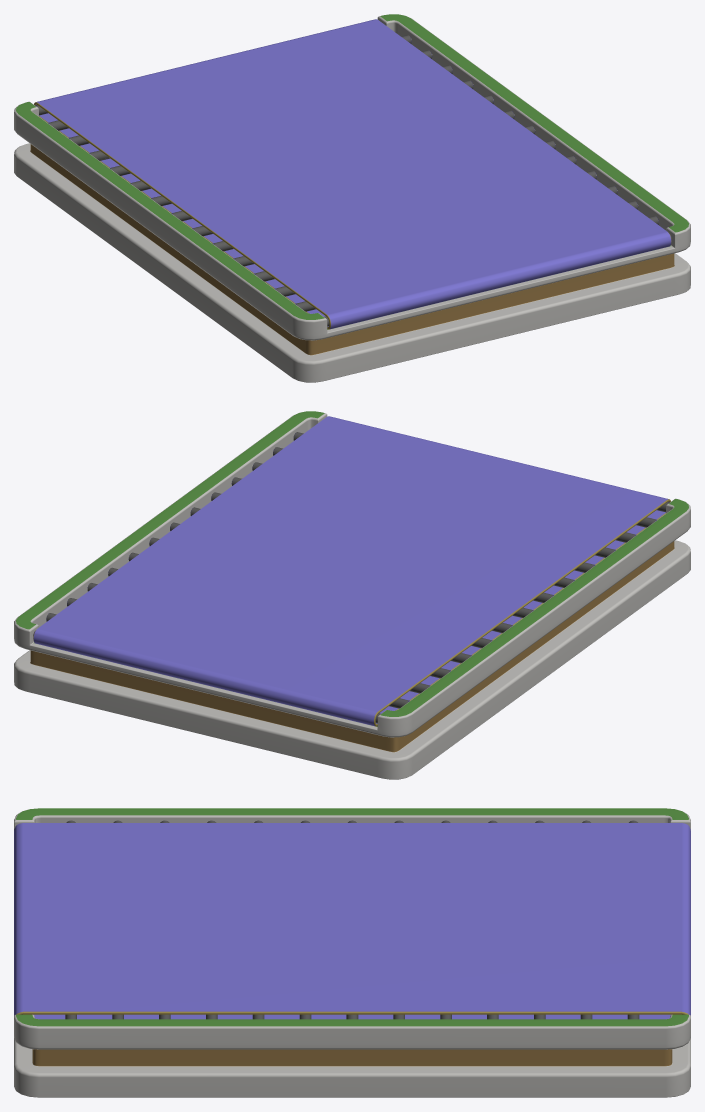
File: SM_Booster_Platform_01.fbx
3 renders of one model, top to bottom at view 1: azimuth 30°, elevation 25°; view 2: azimuth 150°, elevation 25°; view 3: azimuth 270°, elevation 25°, orthographic. The views are drawn at different scales.
Visible parts, largest first — view 1: SM_Booster_Platform_01; view 2: SM_Booster_Platform_01; view 3: SM_Booster_Platform_01.
Boxes of the visible parts, x1=… form: SM_Booster_Platform_01: x1=14, y1=14, x2=690, y2=382; SM_Booster_Platform_01: x1=14, y1=411, x2=690, y2=779; SM_Booster_Platform_01: x1=14, y1=808, x2=690, y2=1097.
Size of the model in its own units: 1334 by 200 by 1737.
